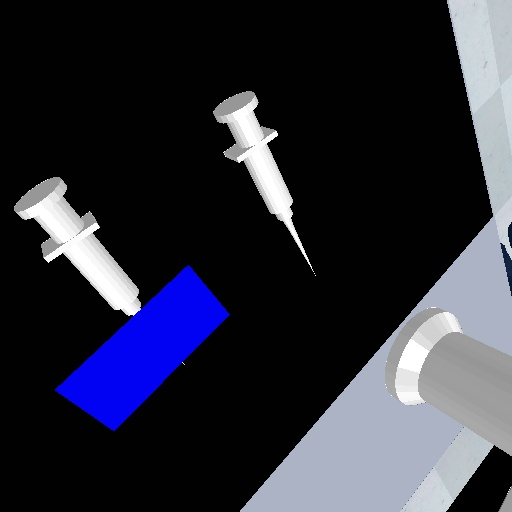jeringuilla: (210, 86, 322, 280), (7, 169, 143, 321)
